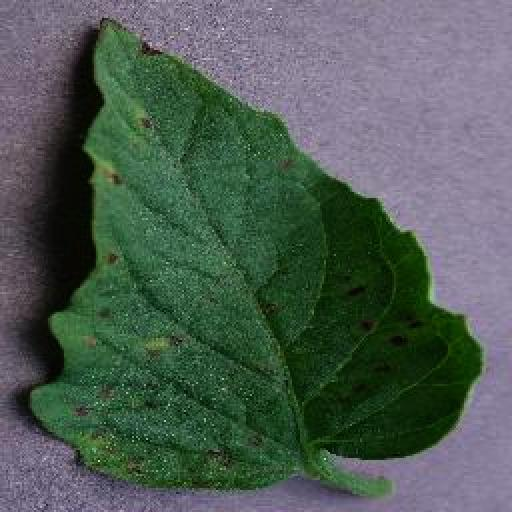disease_tomato: (28, 16, 482, 494)
